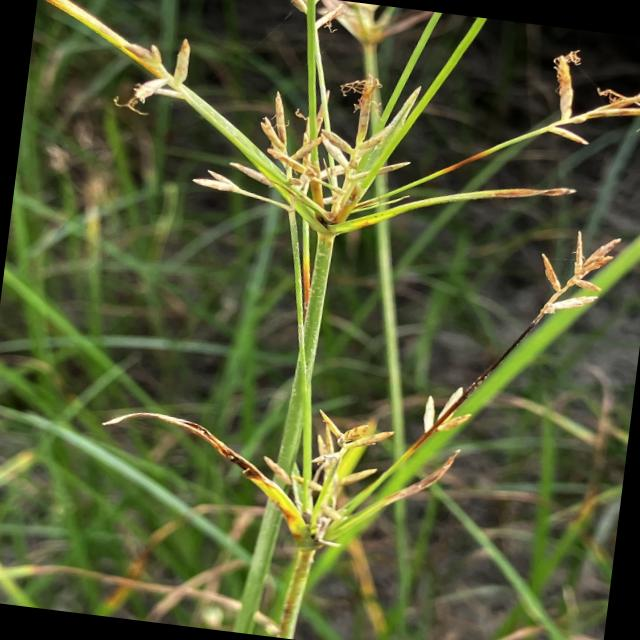cyperus: (75, 0, 640, 583), (96, 0, 640, 268), (89, 334, 486, 559), (508, 212, 638, 336)
